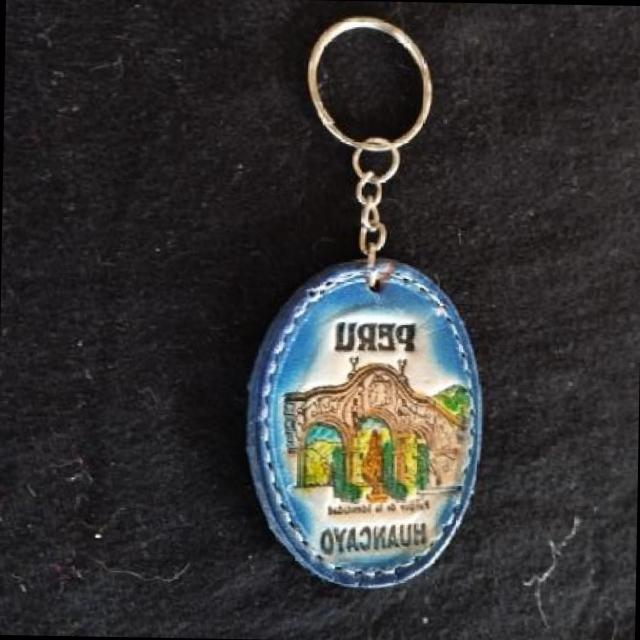Llavero: (240, 254, 487, 591)
